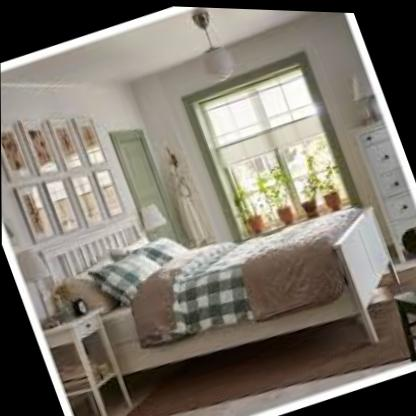Bed: (32, 121, 416, 416)
Window: (181, 45, 365, 248)
